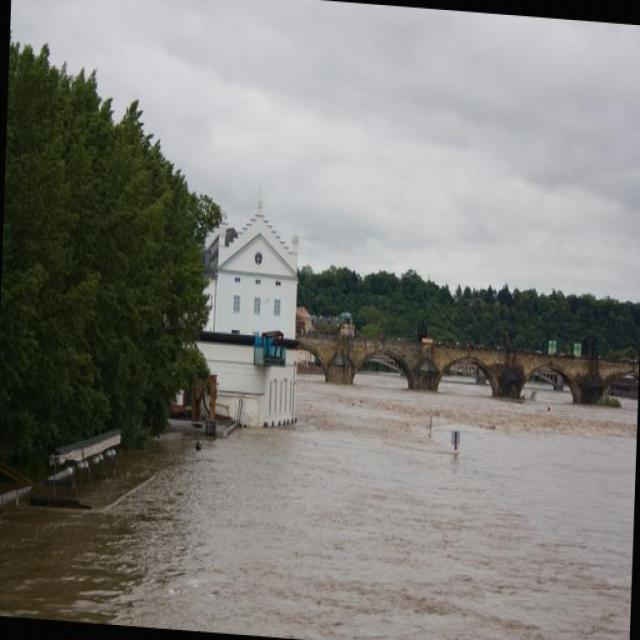flood: (0, 333, 639, 639)
